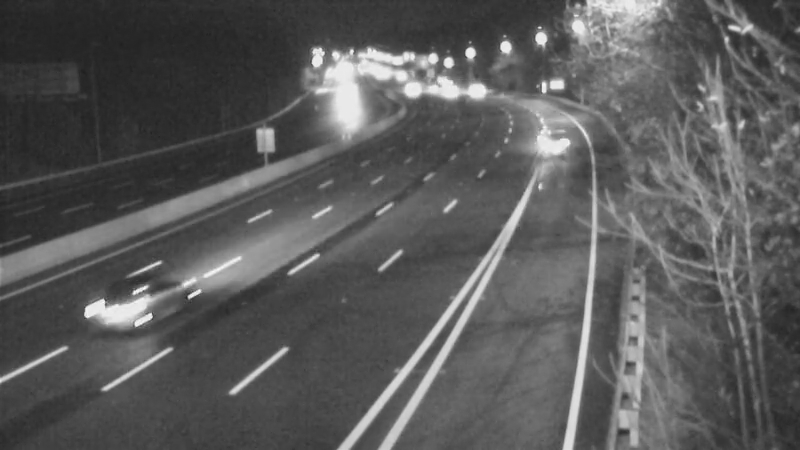vehicle: (68, 255, 178, 365), (456, 63, 506, 113), (391, 69, 441, 119), (419, 68, 469, 118), (534, 122, 584, 172)
